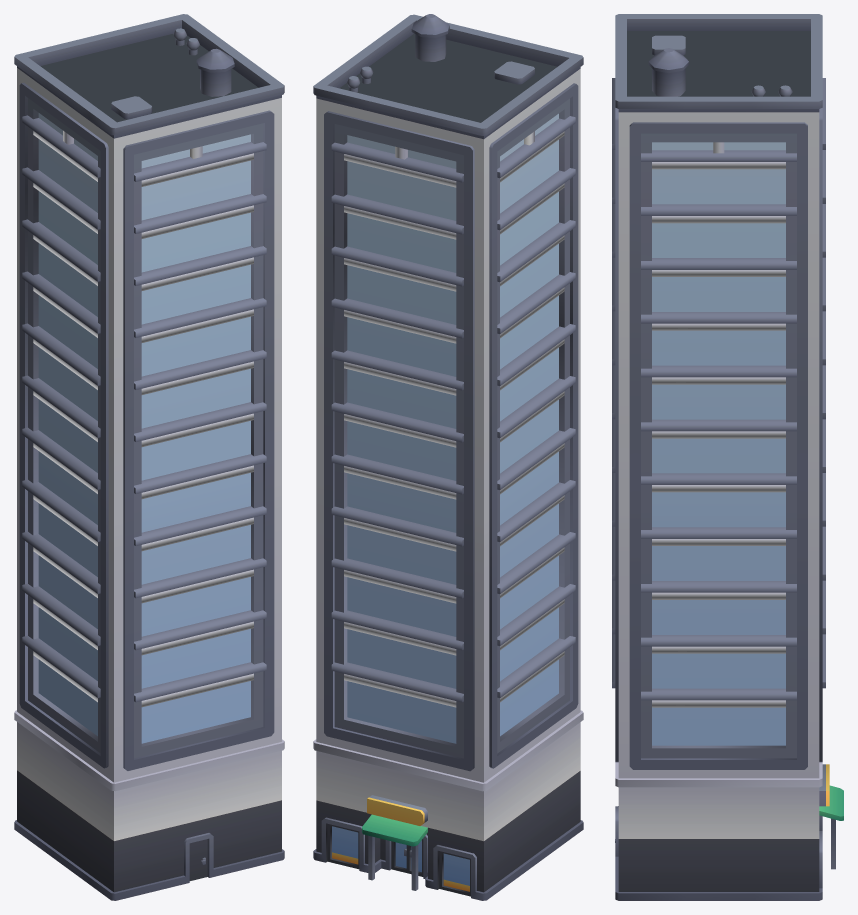
File: k-city-kit-commercial-building-skyscraper-d.glb
3 renders of one model, left to right at view 1: azimuth 30°, elevation 25°; view 2: azimuth 150°, elevation 25°; view 3: azimuth 270°, elevation 25°, orthographic. The views are drawn at different scales.
Visible parts, largest first — view 1: building-skyscraper-d; view 2: building-skyscraper-d; view 3: building-skyscraper-d.
Boxes of the visible parts, x1,y1,x2,y2 form: building-skyscraper-d: [14, 14, 284, 900]; building-skyscraper-d: [313, 14, 583, 900]; building-skyscraper-d: [612, 14, 843, 900].
Size of the model in its own units: 1.28 by 5.47 by 1.39.
1 material, 1 textured.
